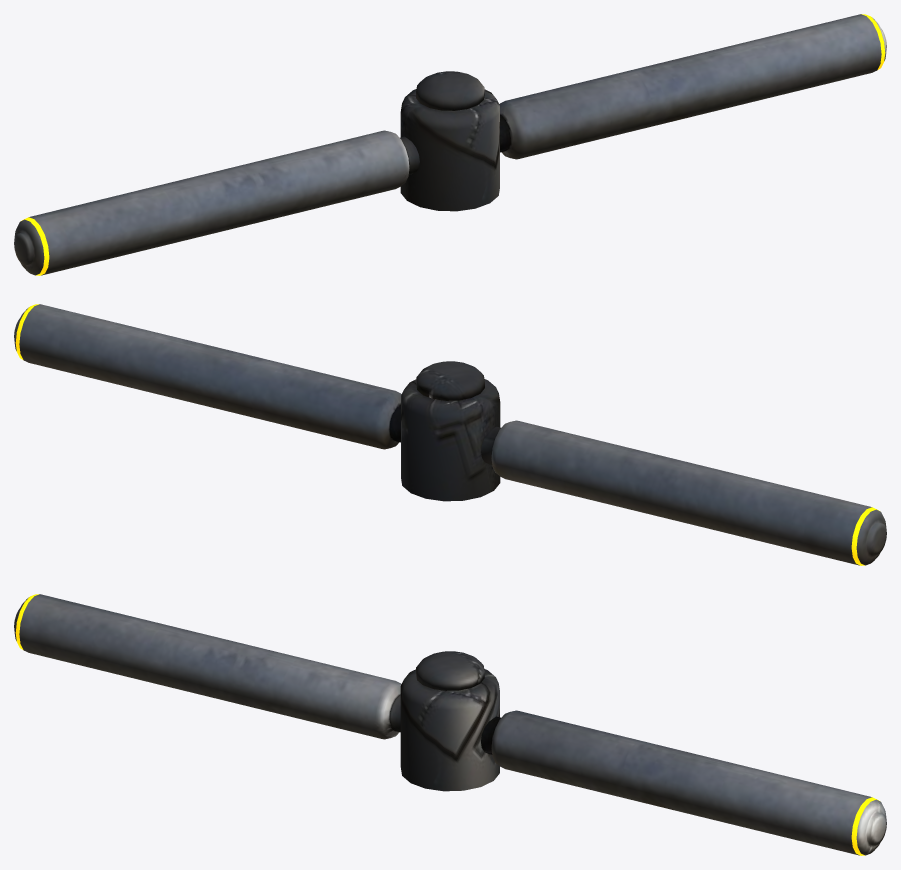
The model's file is floor.03.machine9.gltf.
3 renders of one model, top to bottom at view 1: azimuth 30°, elevation 25°; view 2: azimuth 150°, elevation 25°; view 3: azimuth 330°, elevation 25°, orthographic.
Visible parts, largest first — view 1: floor.03.machine.11; view 2: floor.03.machine.11; view 3: floor.03.machine.11.
Part boxes in pixels (bbox=[...]): floor.03.machine.11: bbox=[14, 14, 886, 275]; floor.03.machine.11: bbox=[14, 304, 886, 565]; floor.03.machine.11: bbox=[14, 594, 886, 855].
Size of what is drawn, in the model's own units: 16.16 by 2.01 by 1.63.
Materials: 2 (1 with a texture image).
